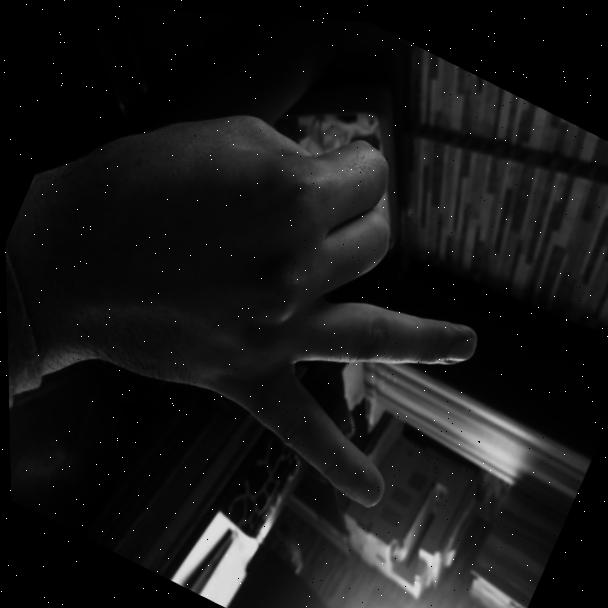five: (58, 36, 547, 554)
